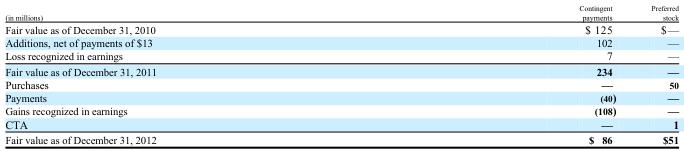table: (4, 3, 678, 145)
table column: (4, 3, 367, 145), (367, 3, 633, 145), (633, 3, 678, 145)
table column header: (4, 3, 678, 22)
table row: (4, 3, 678, 22), (4, 35, 678, 49), (4, 49, 678, 63), (4, 63, 678, 77), (4, 103, 678, 117), (4, 117, 678, 131), (4, 131, 678, 145), (4, 22, 678, 35), (4, 77, 678, 90), (4, 90, 678, 103)
